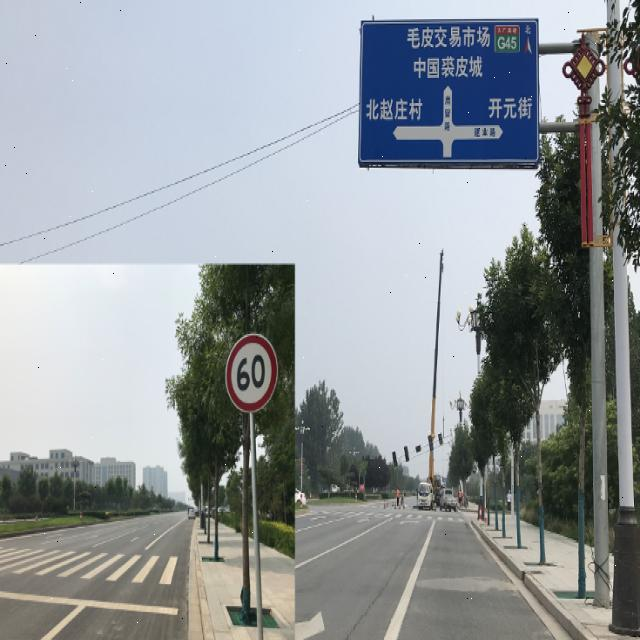speed limit 60: (225, 331, 278, 413)
